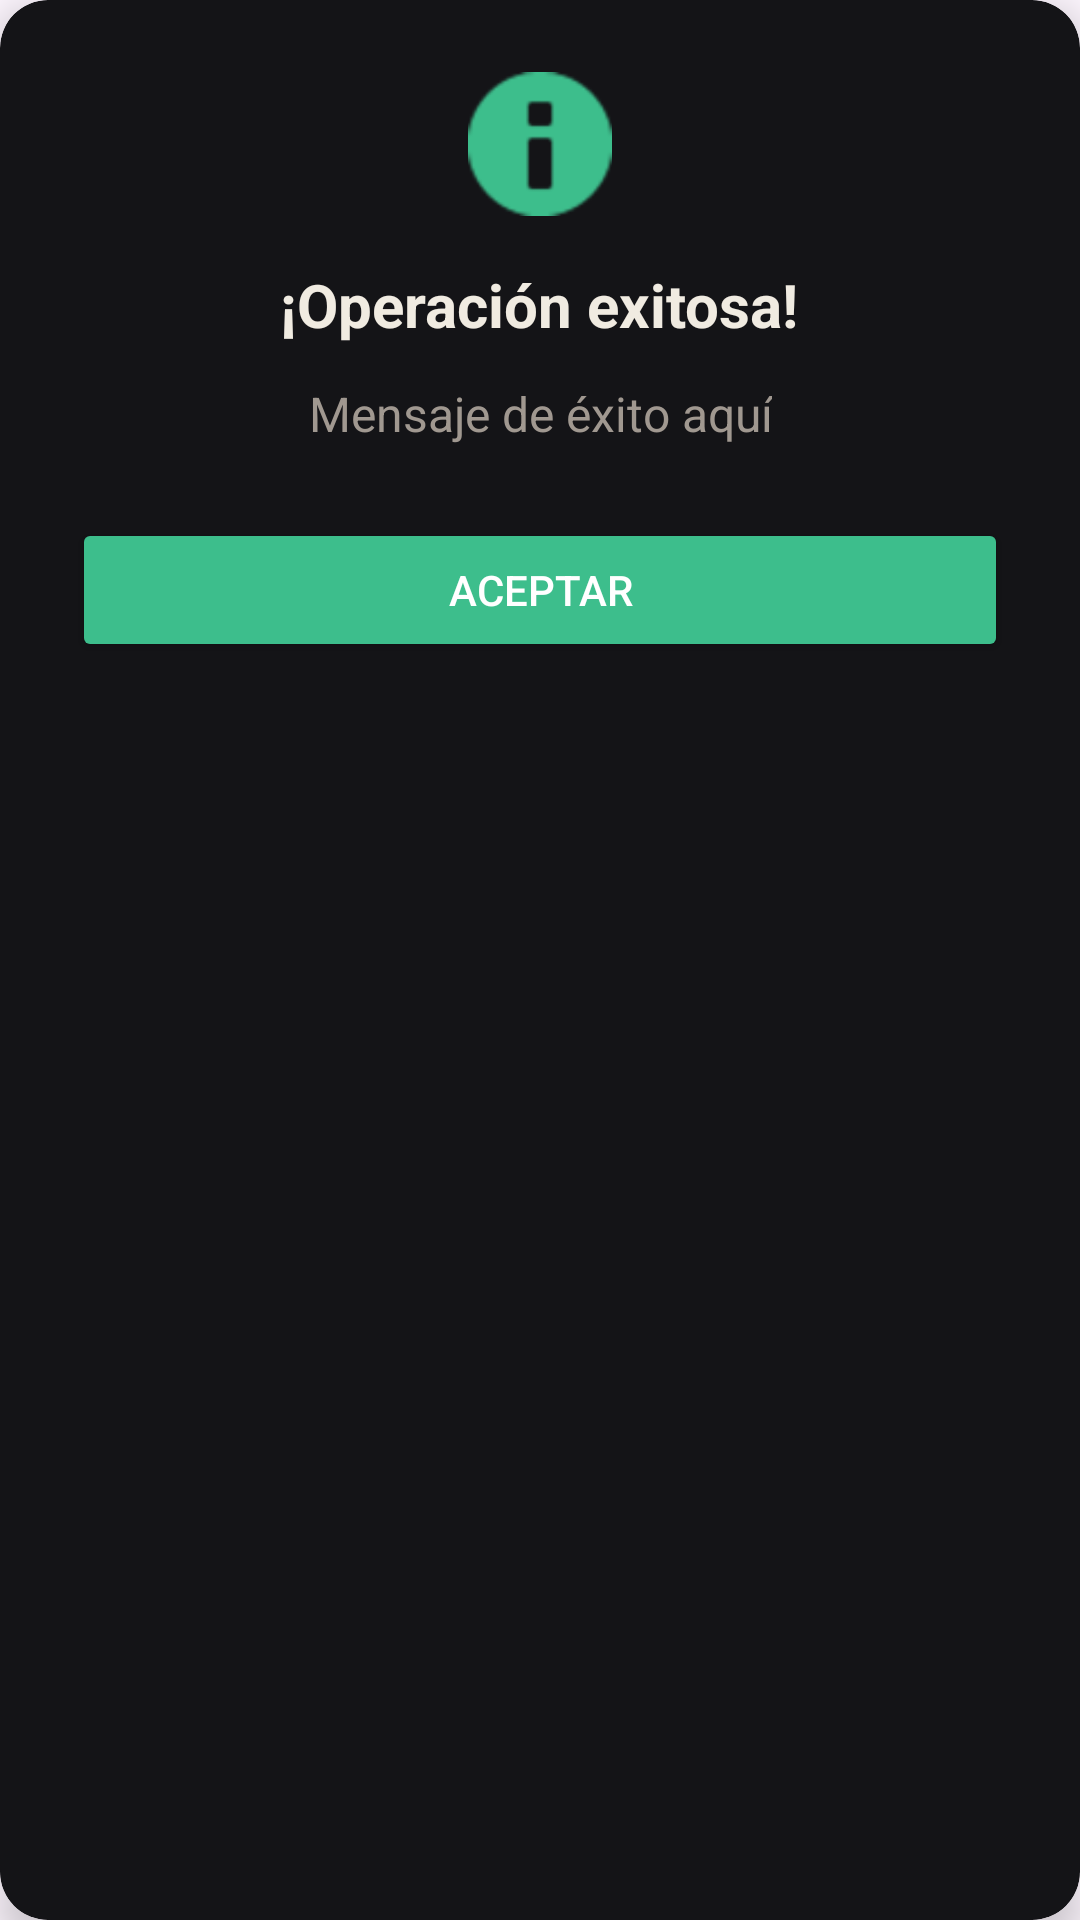

Point at icon controls on the screen. Image size 1080px x 1920px, points as point (x, y).
info: point (540, 144)
